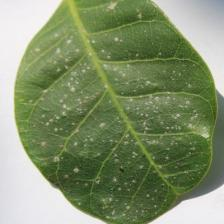red rust: (13, 0, 218, 224)
